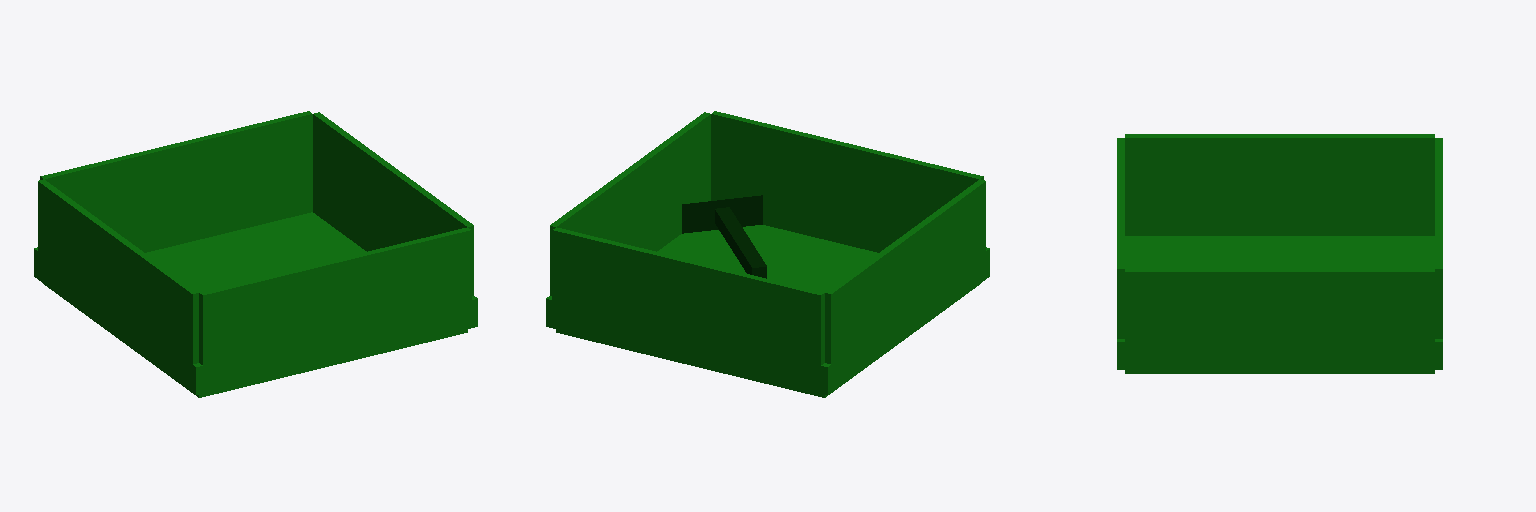
The model's file is Ground3.obj.
The picture shows the model from 3 angles: view 1: azimuth 30°, elevation 25°; view 2: azimuth 150°, elevation 25°; view 3: azimuth 270°, elevation 25°; orthographic projection.
Visible parts, largest first — view 1: Ground; view 2: Ground, Tunnel, Tunnel_normals_flipped; view 3: Ground.
Part boxes in pixels (bbox=[...]): Ground: bbox=[34, 111, 477, 397]; Ground: bbox=[546, 111, 989, 397]; Tunnel: bbox=[682, 195, 766, 278]; Tunnel_normals_flipped: bbox=[682, 195, 766, 277]; Ground: bbox=[1117, 134, 1442, 373].
Bounding box in the file's own units: 42 × 15.02 × 42.